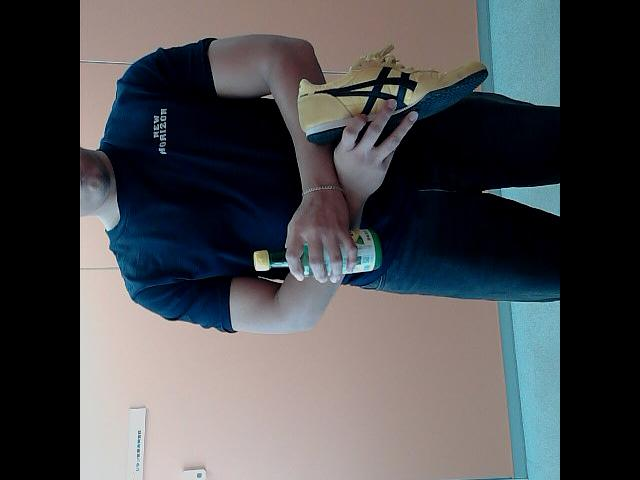Lemon_sapporo: (245, 223, 390, 277)
Shoes: (298, 43, 486, 145)
